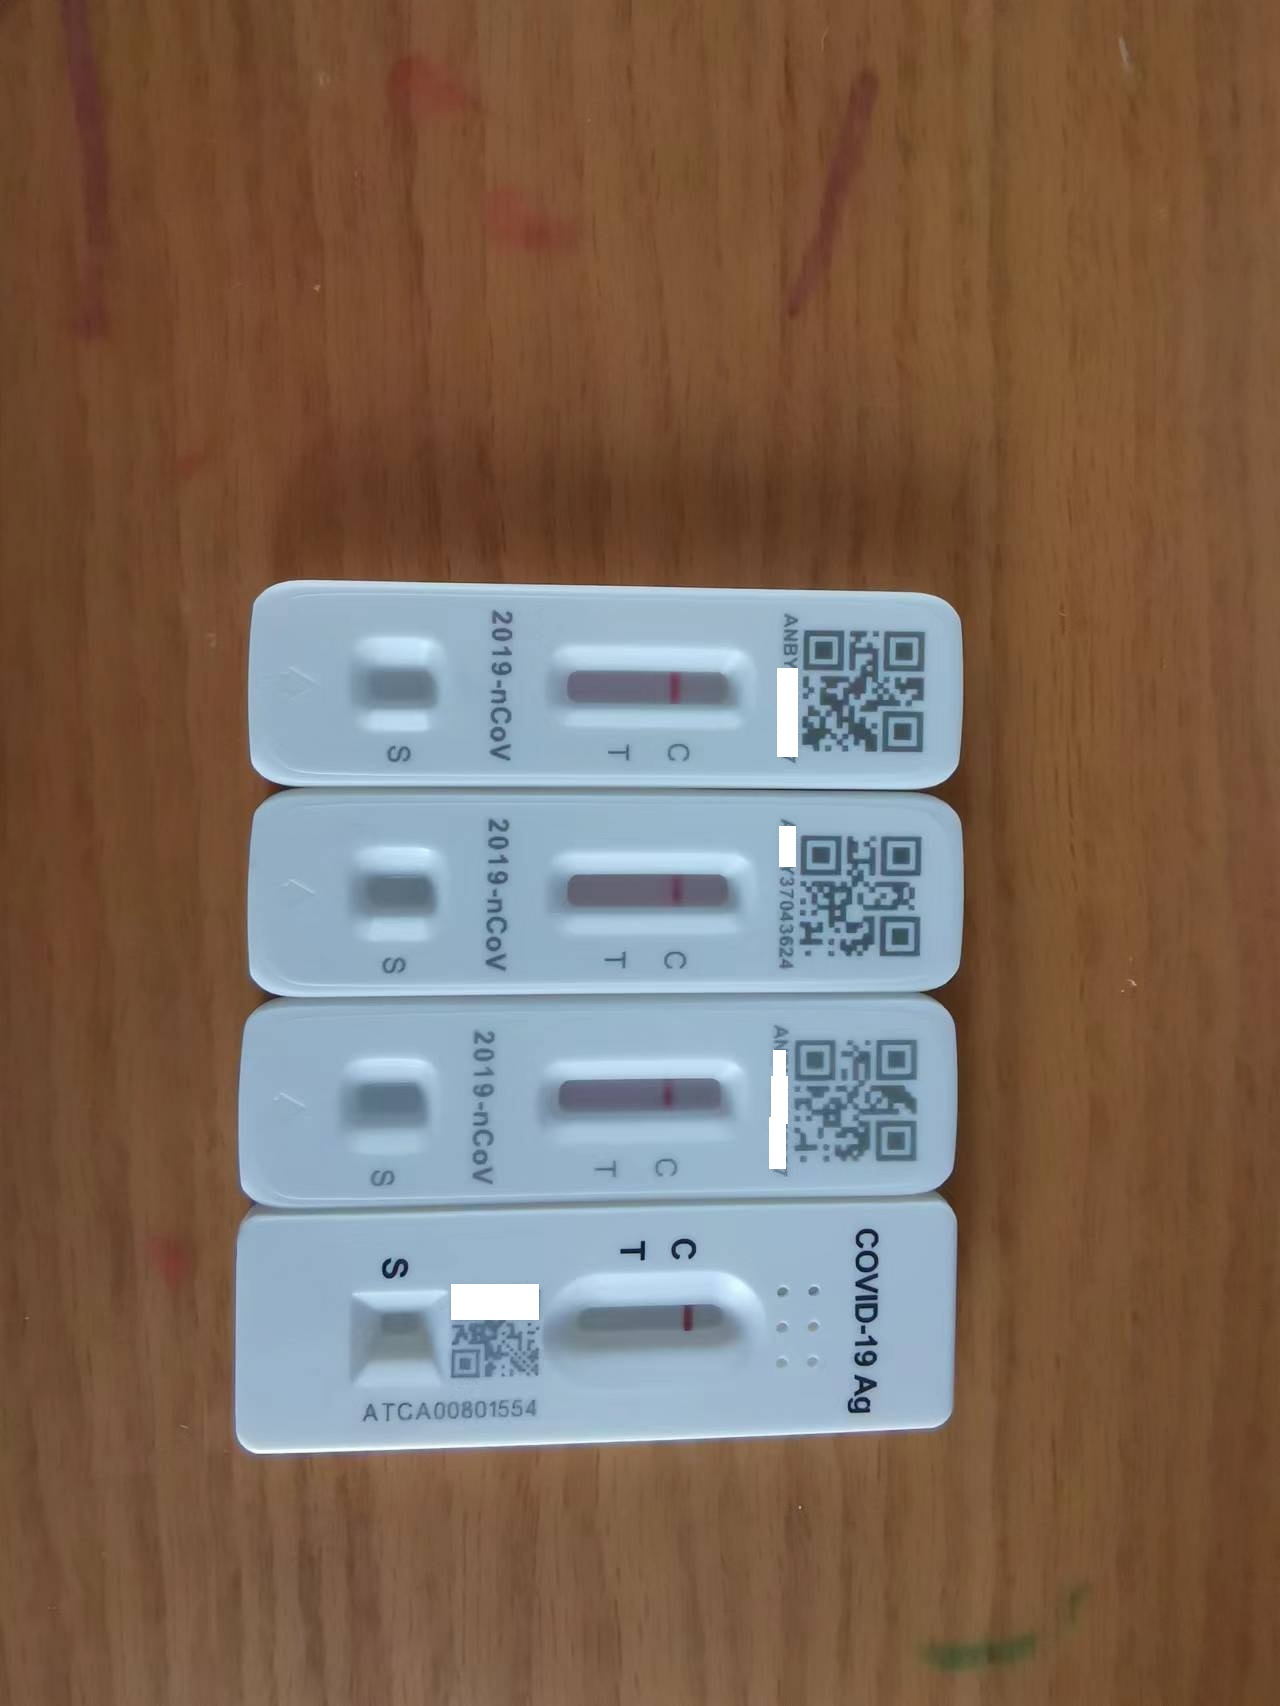negative: (543, 640, 760, 725), (545, 850, 760, 926), (545, 1057, 746, 1135)
